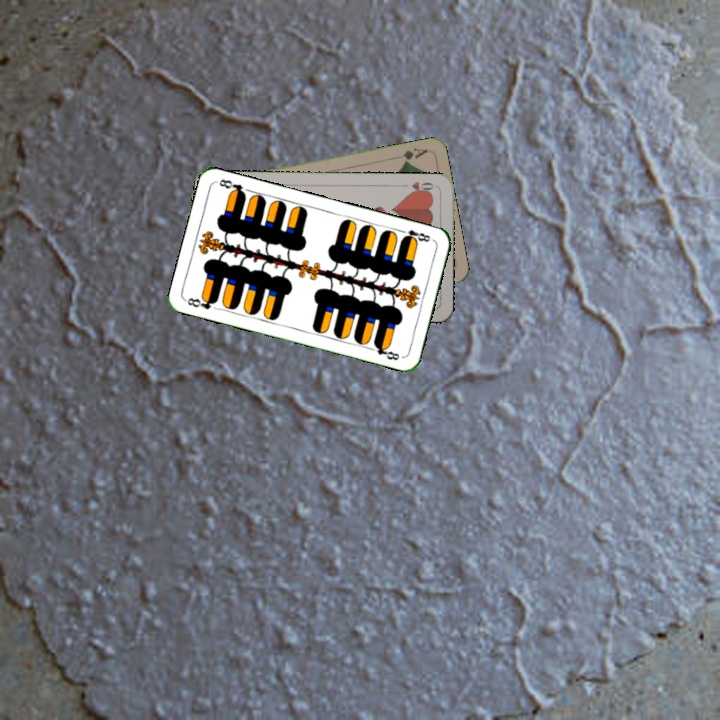E8: (182, 293, 220, 312), (396, 226, 433, 245)
GA: (390, 144, 430, 166)
HO: (405, 178, 436, 196)
